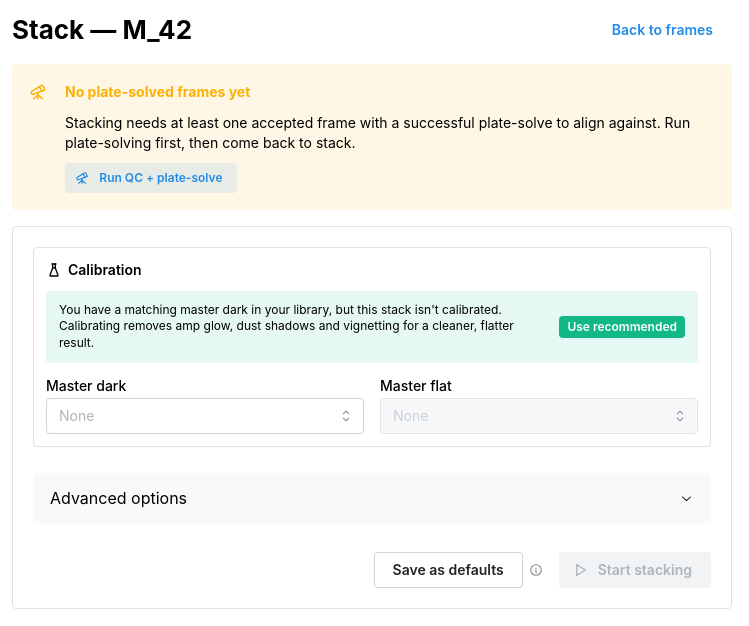
Test case: StackView › says so when a picked master is built from the wrong kind of frame
Expected: the button "Use recommended" is shown, left=567, top=317, right=677, bottom=337
Click the button "Use recommended".
click(622, 327)  # box left=559, top=316, right=685, bottom=338
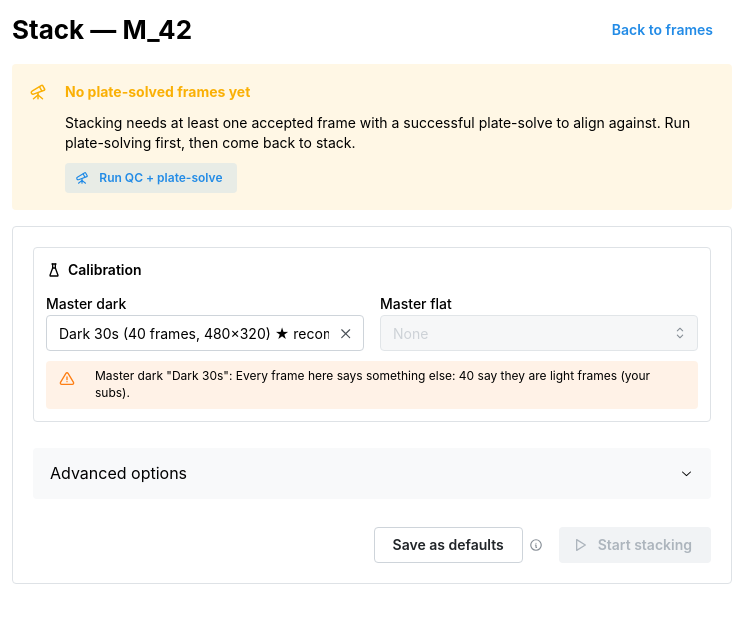
Expected: the text "Master dark \"Dark 30s\": Every frame here says" is shown, left=95, top=368, right=650, bottom=400
